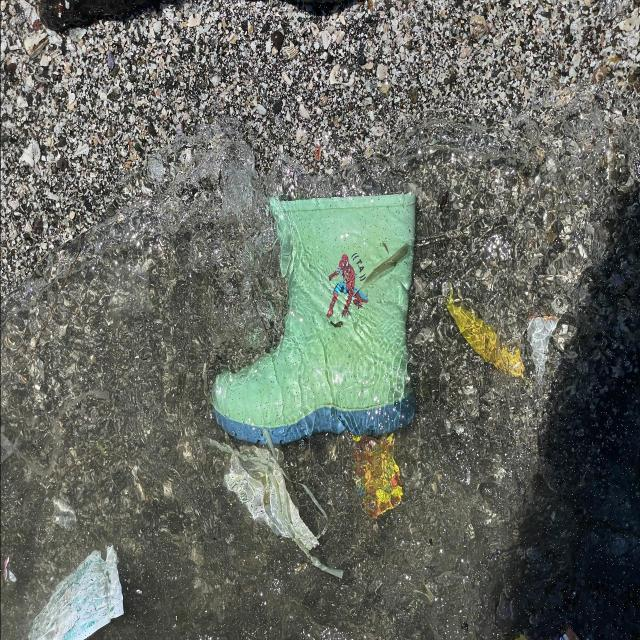plastic_waste: (24, 546, 124, 639)
rubber_waste: (212, 194, 420, 446)
